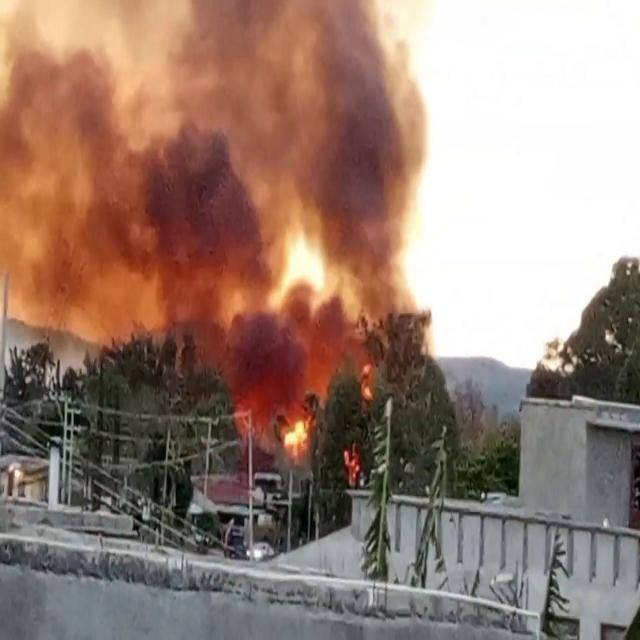Fire: (280, 410, 312, 458)
Smoke: (0, 0, 446, 347)
